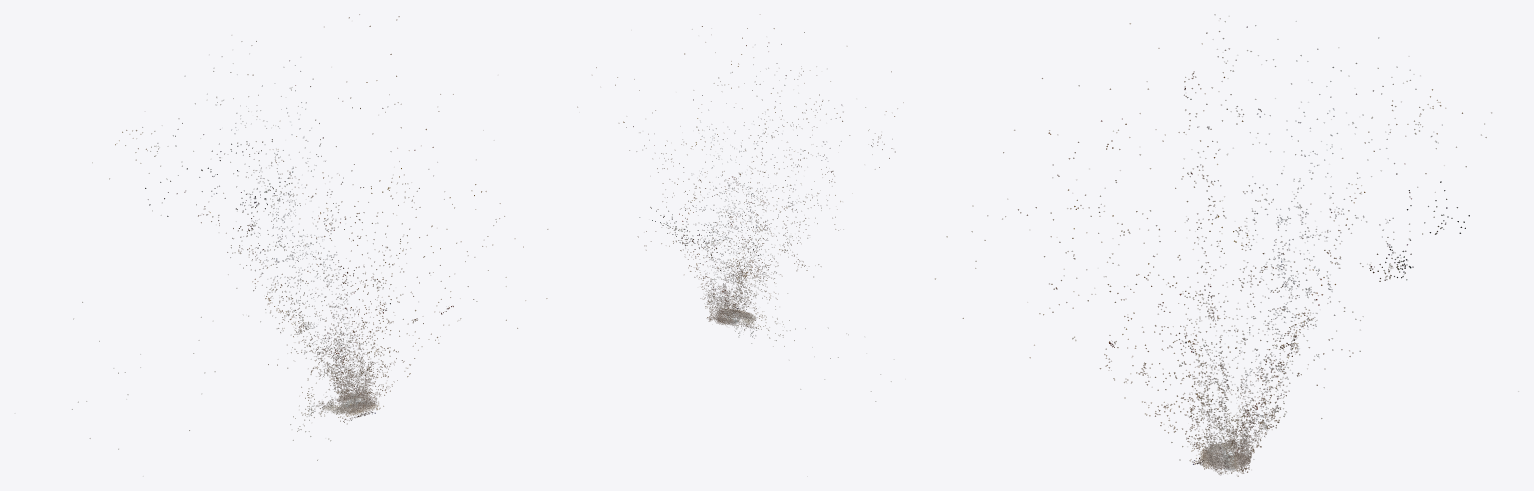
The model's file is Guanabara.glb.
The picture shows the model from 3 angles, left to right: view 1: azimuth 30°, elevation 25°; view 2: azimuth 150°, elevation 25°; view 3: azimuth 270°, elevation 25°; orthographic projection. The views are drawn at different scales.
Bounding box in the file's own units: 2.23 × 2.24 × 2.54.
